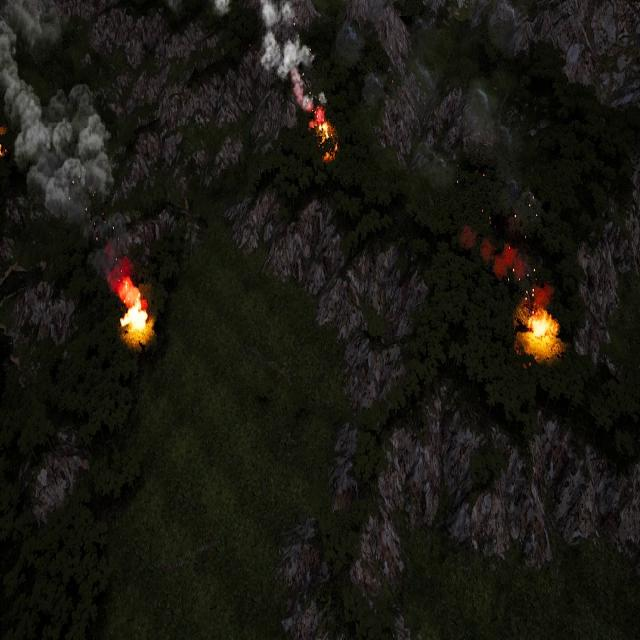fire: (118, 277, 152, 345), (524, 310, 558, 354), (309, 106, 337, 159)
smoke: (0, 0, 128, 283), (258, 0, 328, 116), (463, 226, 552, 311), (214, 0, 232, 19)
